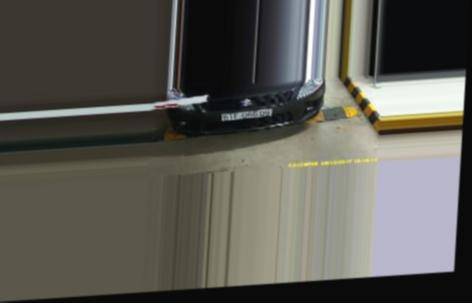License_Plate: (218, 105, 274, 124)
